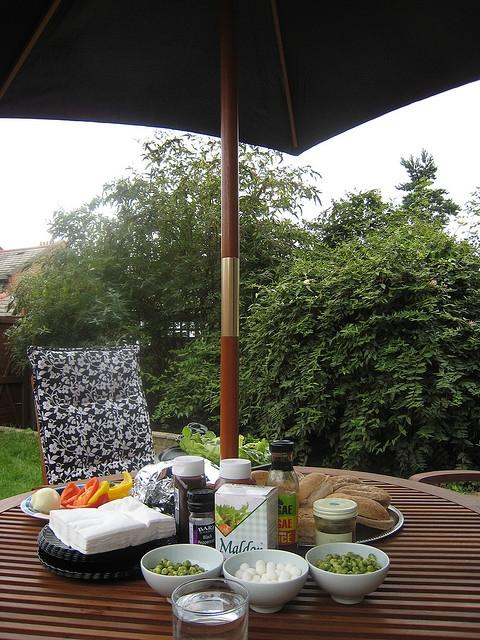bell pepper: (72, 476, 100, 506), (108, 472, 133, 502), (66, 493, 110, 509), (60, 481, 80, 508), (88, 481, 110, 504)
